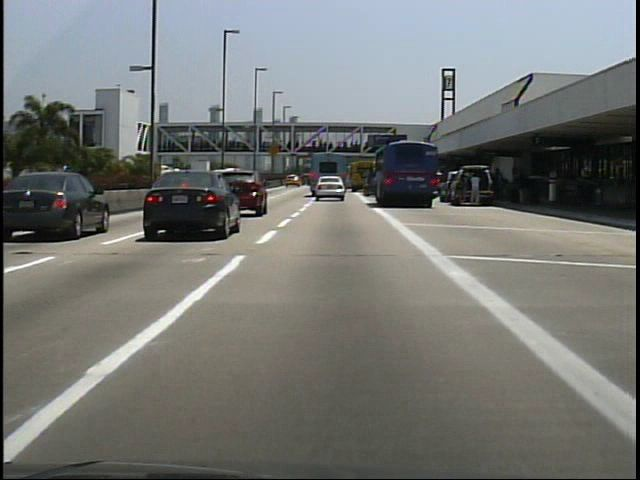person: (515, 169, 532, 210), (469, 170, 483, 209)
